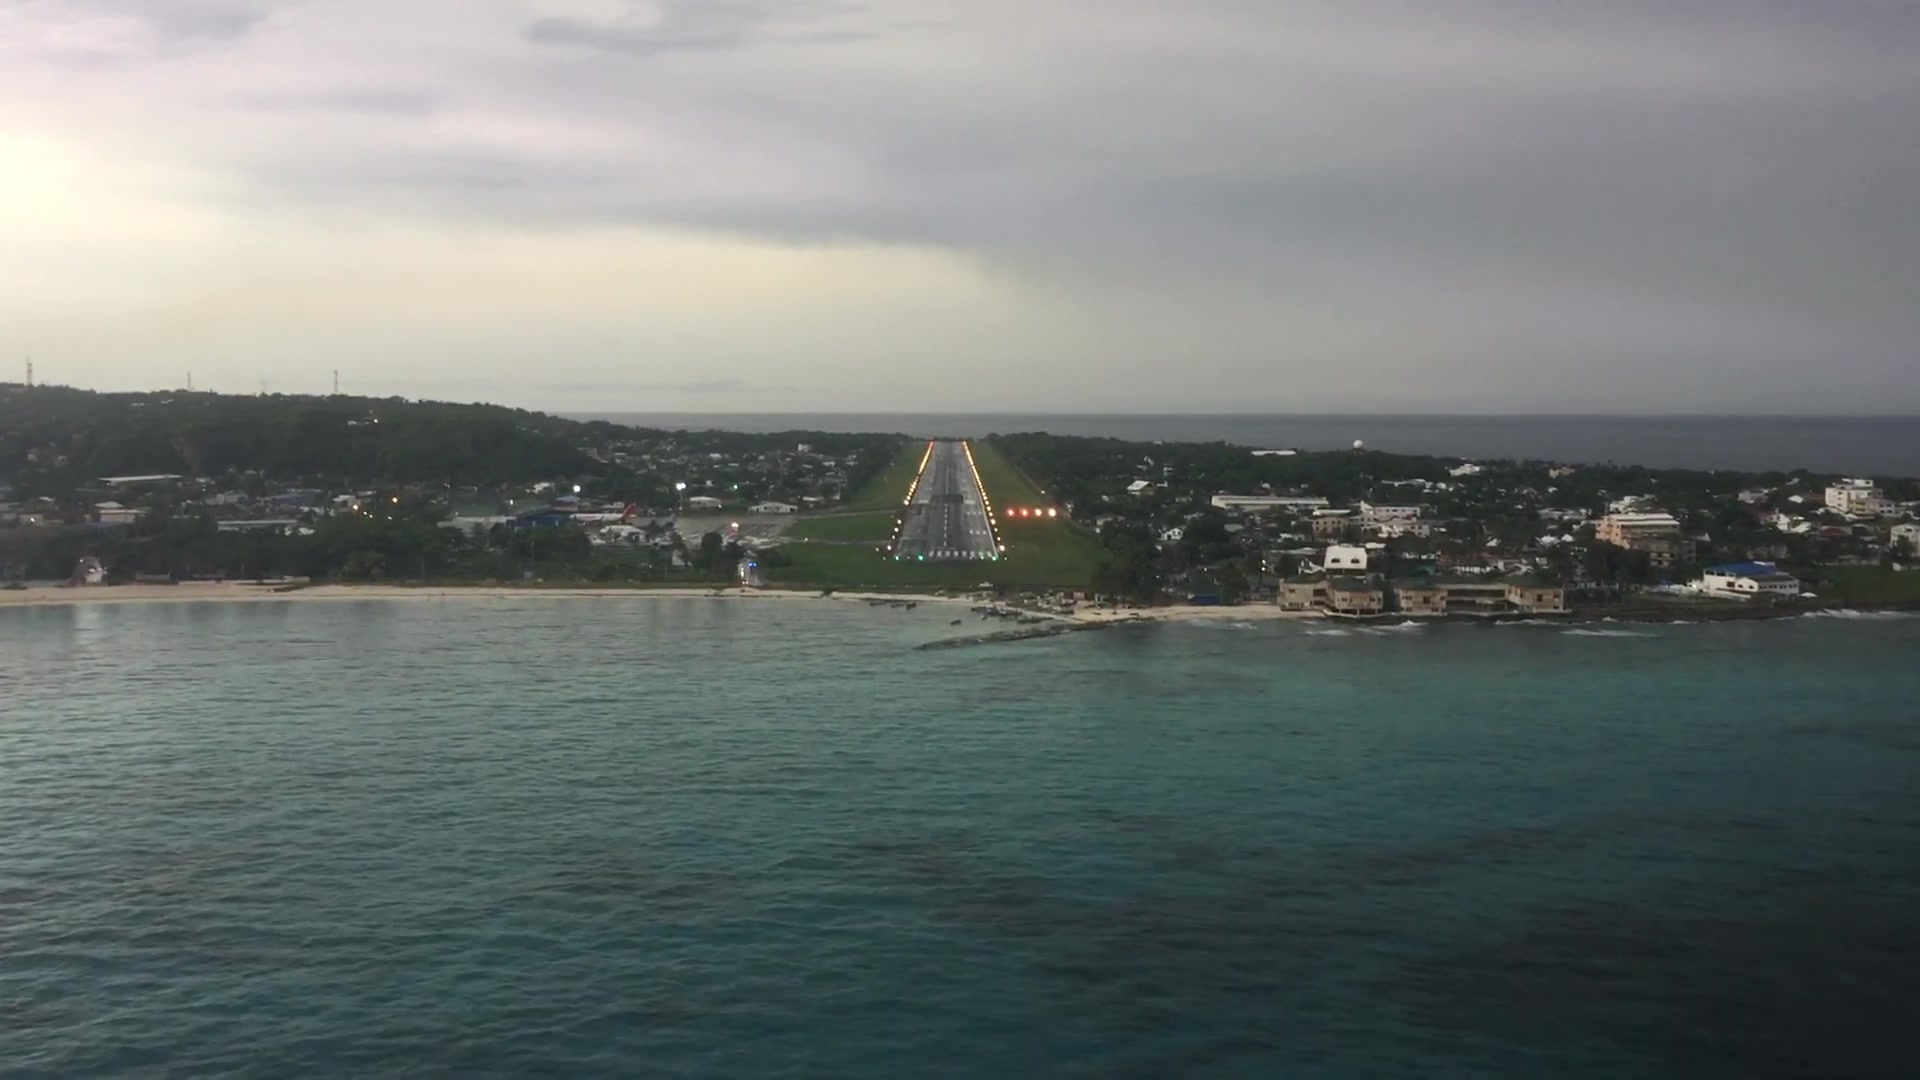entrance: (928, 547, 996, 559)
runway: (886, 438, 1009, 560)
